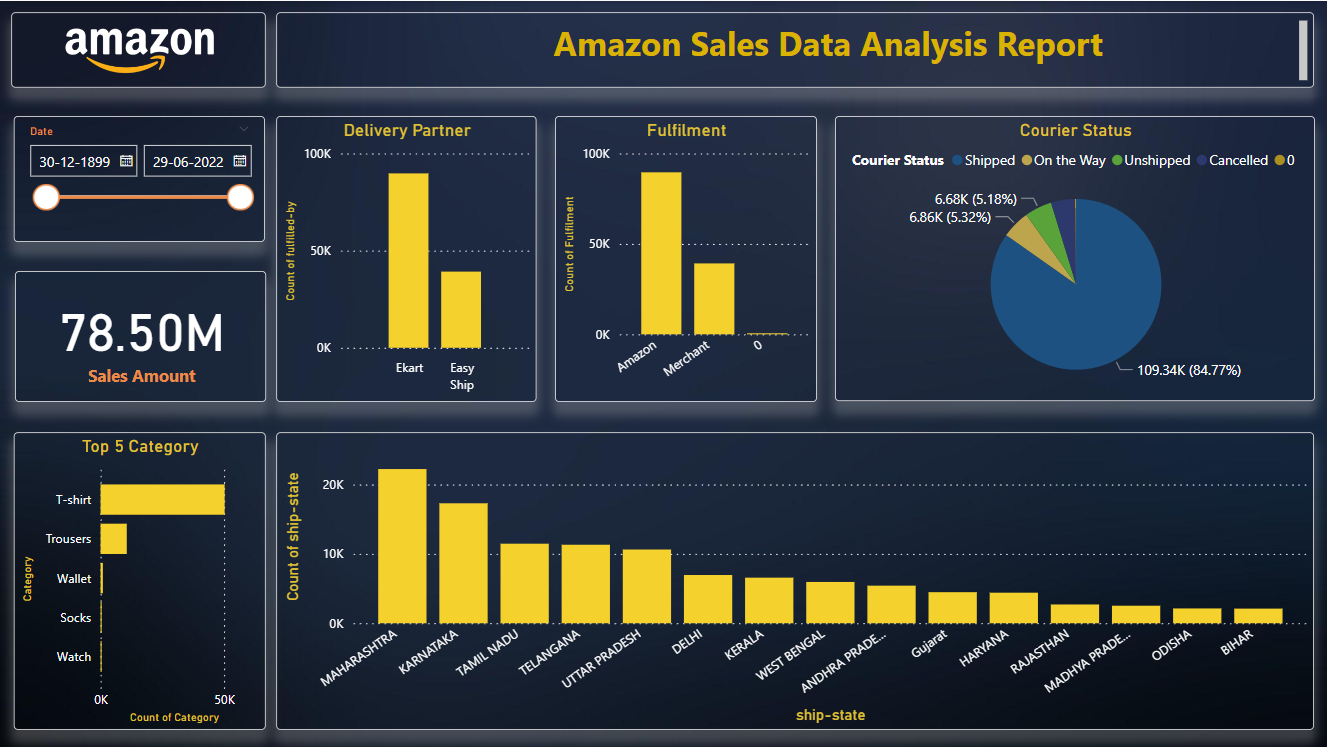

What the dashboard file says about the page in this screenshot:
{"tool":"powerbi","page":{"name":"Page 1","canvas":[1280,720],"ordinal":0},"visuals":[{"type":"image","box":[11.4,11.4,245.7,72.9],"z":0},{"type":"textbox","box":[267.1,11.4,1001.4,72.9],"z":1000},{"type":"card","fields":{"Values":["Sum(Amazon Sale Report.Amount)"]},"box":[14.5,260.6,242.5,126.7],"z":2000},{"type":"slicer","fields":{"Values":["Amazon Sale Report.Date"]},"box":[13.3,111,242.5,121.9],"z":3000},{"type":"barChart","title":"Top 5 Category","fields":{"Category":["Amazon Sale Report.Category"],"Y":["CountNonNull(Amazon Sale Report.Category)"]},"box":[12.9,415.7,242.9,287.1],"z":4000},{"type":"pieChart","title":"Courier Status ","fields":{"Category":["Amazon Sale Report.Courier Status"],"Y":["CountNonNull(Amazon Sale Report.Courier Status)"]},"box":[805.7,111.4,462.9,275.7],"z":5000},{"type":"columnChart","title":"Delivery Partner","fields":{"Category":["Amazon Sale Report.fulfilled-by"],"Y":["CountNonNull(Amazon Sale Report.fulfilled-by)"]},"box":[267.1,111.4,251.4,275.7],"z":6000},{"type":"columnChart","title":"Fulfilment ","fields":{"Category":["Amazon Sale Report.Fulfilment"],"Y":["CountNonNull(Amazon Sale Report.Fulfilment)"]},"box":[535.7,111.4,252.9,275.7],"z":7000},{"type":"clusteredColumnChart","fields":{"Category":["Amazon Sale Report.ship-state"],"Y":["CountNonNull(Amazon Sale Report.ship-state)"]},"box":[267.1,415.7,1001.4,287.1],"z":8000}]}

Visuals, with their boxes in screenshot pixels (x1, y1, x2, y2), scaled from the page's 1280x720 canvas onto the 1327x747 screenshot:
image: bbox(12, 12, 267, 87)
textbox: bbox(277, 12, 1315, 87)
card - Sum(Amazon Sale Report.Amount): bbox(15, 270, 266, 402)
slicer - Amazon Sale Report.Date: bbox(14, 115, 265, 242)
"Top 5 Category" barChart: bbox(13, 431, 265, 729)
"Courier Status " pieChart: bbox(835, 116, 1315, 402)
"Delivery Partner" columnChart: bbox(277, 116, 538, 402)
"Fulfilment " columnChart: bbox(555, 116, 818, 402)
clusteredColumnChart - Amazon Sale Report.ship-state x CountNonNull(Amazon Sale Report.ship-state): bbox(277, 431, 1315, 729)
